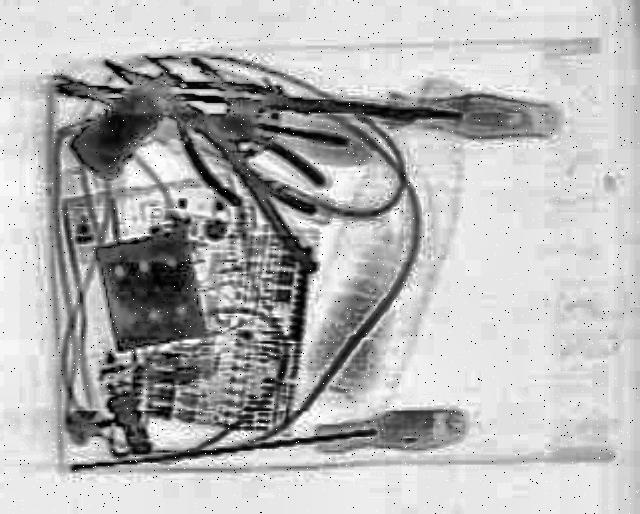Pliers: (70, 37, 336, 232), (55, 72, 359, 148)
